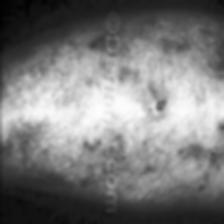Non-Cancerous Skin Condition: (128, 42, 224, 198), (152, 98, 167, 113), (192, 95, 203, 113), (219, 117, 224, 131)
